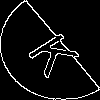K: (25, 25, 90, 79)
